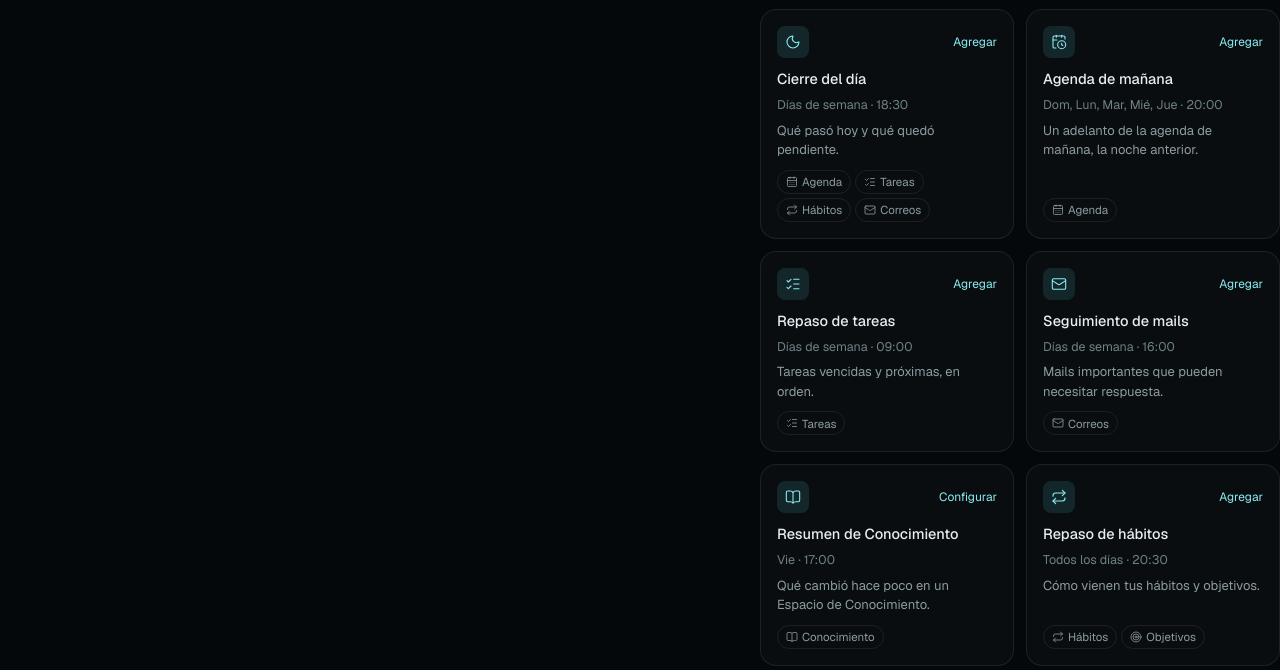
Test: Scheduled hub (ADR-037) › task review looks only at tasks
This screenshot has width=1280, height=670.
(page scrolled)
Click the button "Repaso de tareas": (887, 352) x1=760 y1=251 x2=1014 y2=452
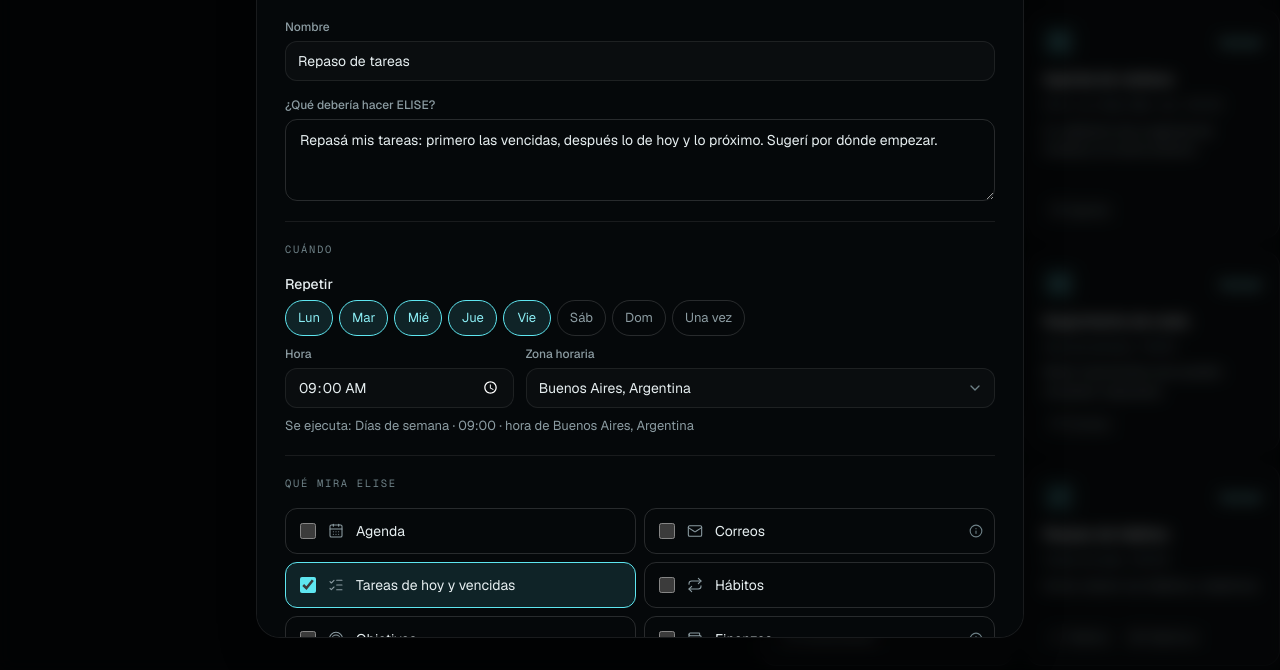
Expected: the checkbox labelled "Tareas de hoy y vencidas" is checked, x1=300 y1=577 x2=316 y2=593
Expected: the checkbox labelled "Agenda" is not checked, x1=300 y1=523 x2=316 y2=539
